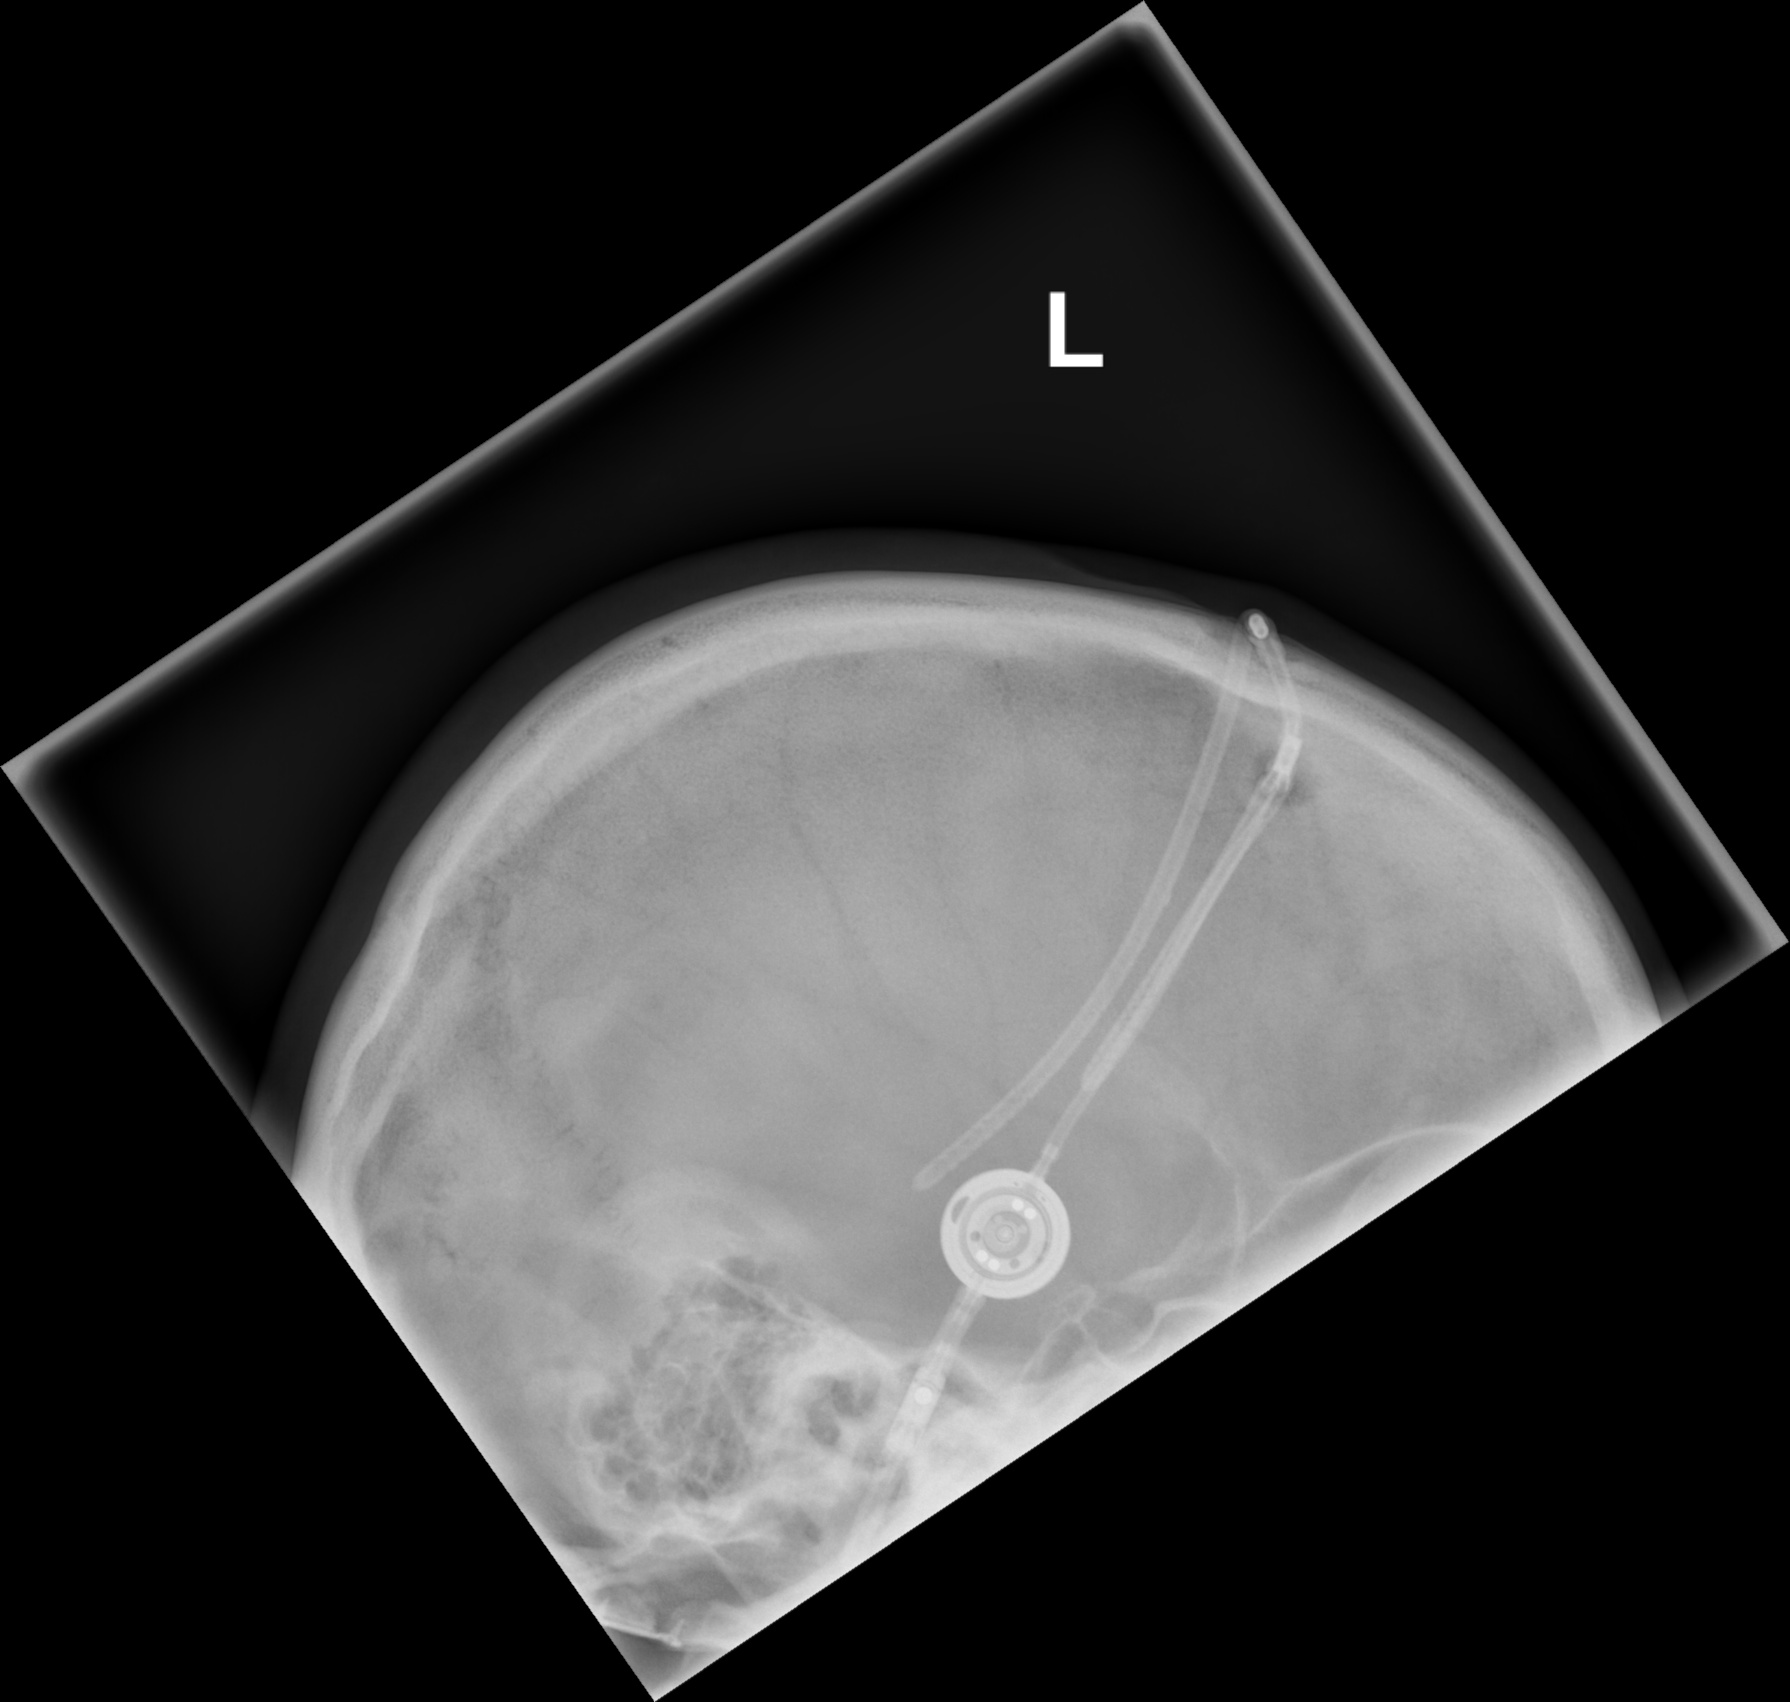paediGAV: (876, 1339, 949, 1475)
proGAV 2.0: (937, 1163, 1074, 1306)
